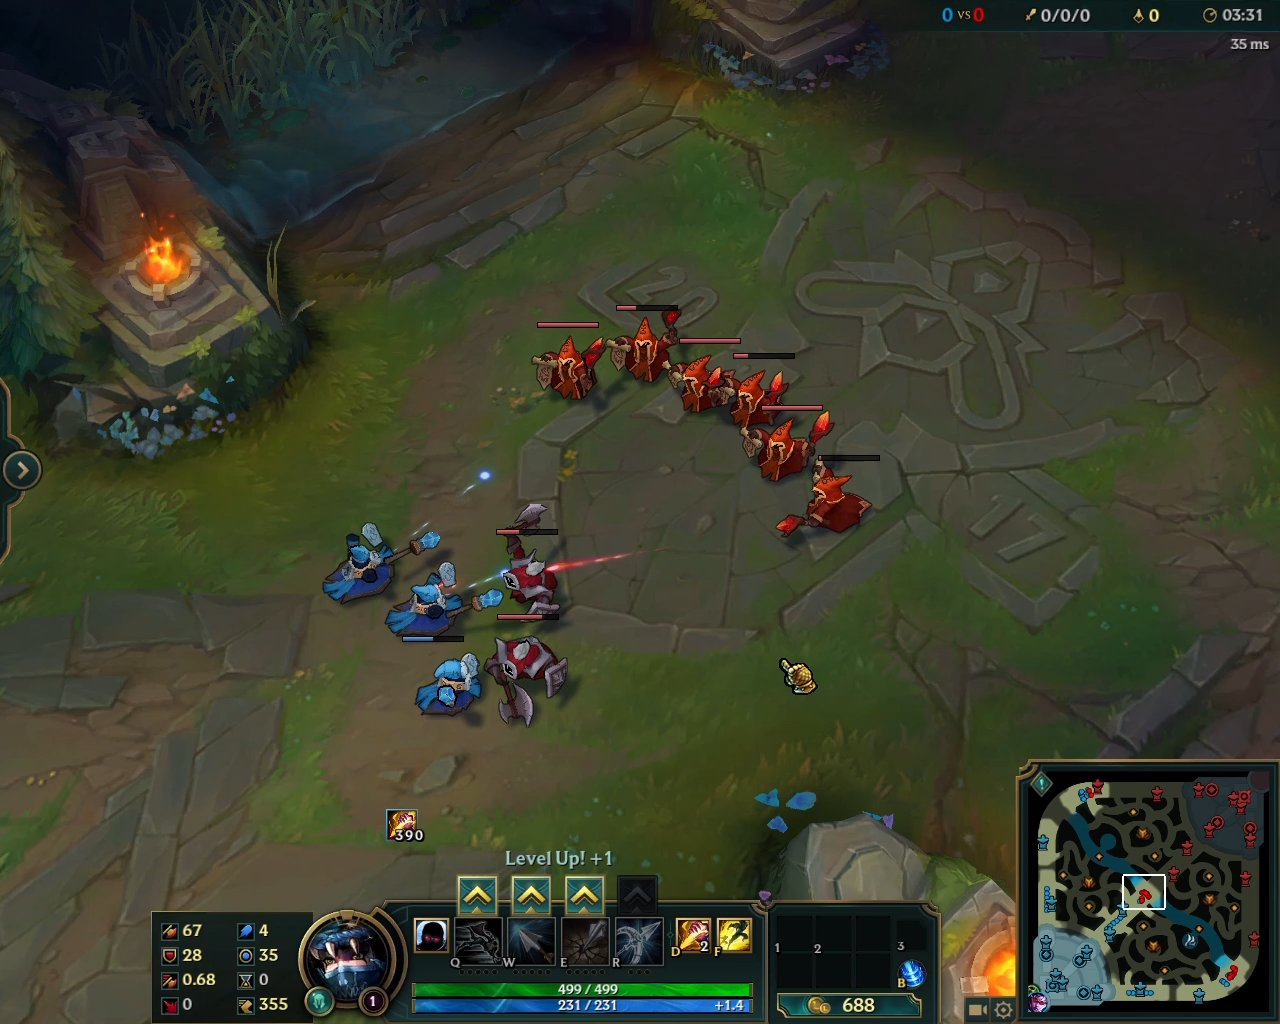EnemyMinion: (483, 612, 571, 732), (776, 455, 879, 541), (742, 406, 833, 484), (721, 351, 801, 429), (497, 530, 565, 622), (606, 304, 680, 383), (529, 323, 601, 404), (673, 338, 741, 420)
